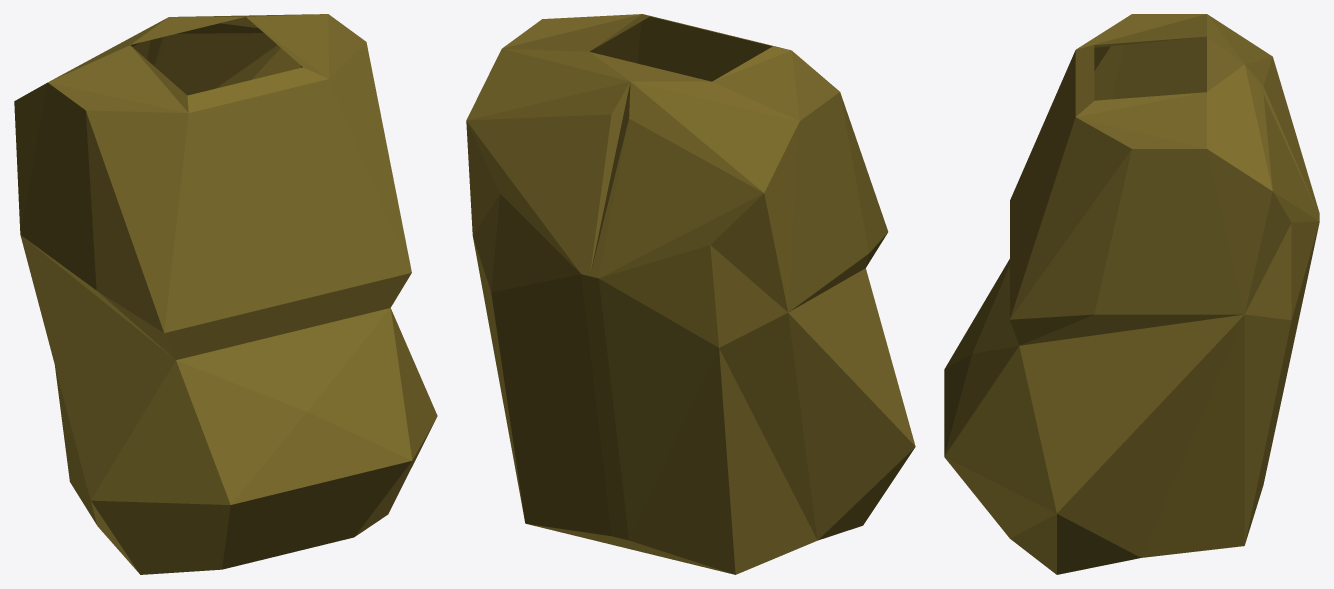
Rendered from model_299_npc.obj.
3 views of the same model, side by side, from view 1: azimuth 30°, elevation 25°; view 2: azimuth 150°, elevation 25°; view 3: azimuth 270°, elevation 25° (orthographic). The views are drawn at different scales.
Visible parts, largest first — view 1: 299; view 2: 299; view 3: 299.
Boxes of the visible parts, <box> form: 299: <box>14,14,437,574</box>; 299: <box>466,14,915,574</box>; 299: <box>944,14,1319,574</box>.
Size of the model in its own units: 42 by 53 by 40.
